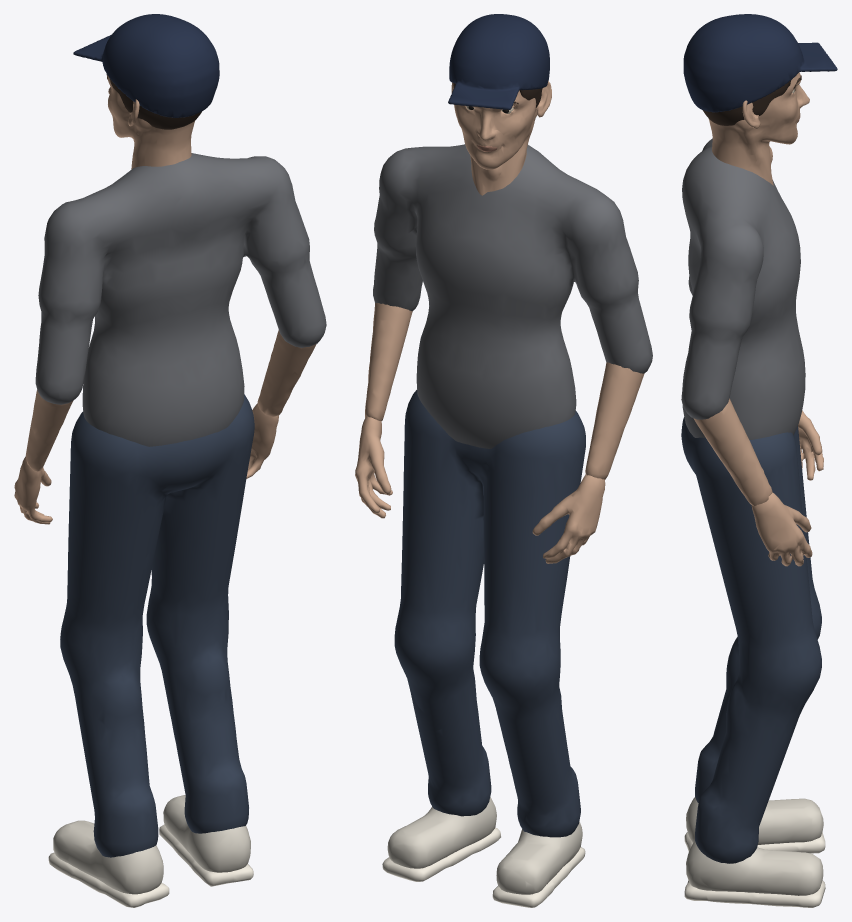
Rendered from buddy.glb.
3 views of the same model, side by side, from view 1: azimuth 30°, elevation 25°; view 2: azimuth 150°, elevation 25°; view 3: azimuth 270°, elevation 25° (orthographic).
Parts seen in each view (by area): view 1: buddy_body, buddy_head, buddy_hands; view 2: buddy_body, buddy_head, buddy_hands; view 3: buddy_body, buddy_head, buddy_hands.
Part boxes in pixels (box(x1,y1,x2,y2)): buddy_body: box(25, 153, 326, 907); buddy_head: box(73, 14, 219, 169); buddy_hands: box(14, 403, 278, 524); buddy_body: box(365, 144, 652, 907); buddy_head: box(448, 14, 551, 195); buddy_hands: box(355, 416, 605, 563); buddy_body: box(681, 138, 825, 907); buddy_head: box(683, 14, 837, 185); buddy_hands: box(751, 410, 823, 566).
Bounding box in the file's own units: 0.5524 × 1.61 × 0.2675.
